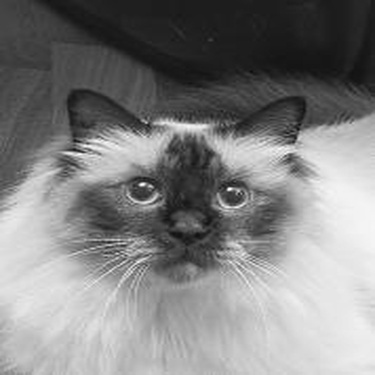cat: (6, 76, 364, 361)
